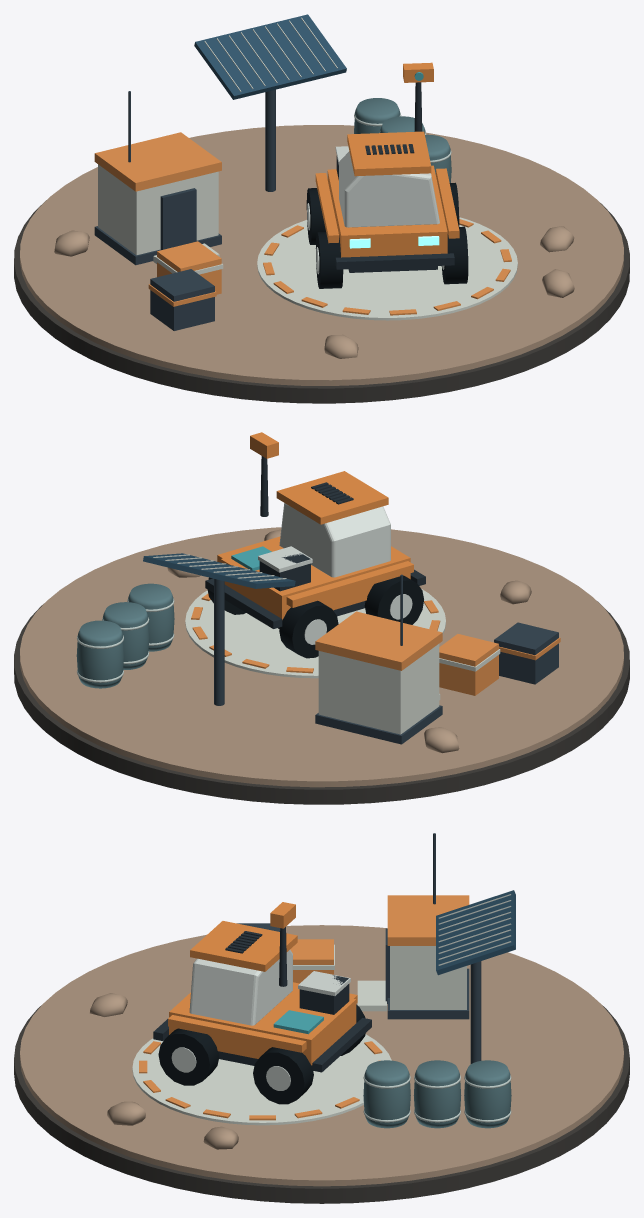
The model's file is outpost.glb.
3 views of the same model, one above another, from view 1: azimuth 30°, elevation 25°; view 2: azimuth 150°, elevation 25°; view 3: azimuth 270°, elevation 25° (orthographic).
Visible parts, largest first — view 1: main/terrain, main/base, main/servicePad, main/solarPanel, main/station, main/scout/cab, main/stationTop, main/scout/chassis, main/scout/canopy, main/crate2, main/stationDoor, main/crate1 (+16 smaller); view 2: main/terrain, main/base, main/station, main/scout/cab, main/servicePad, main/stationTop, main/scout/canopy, main/scout/chassis, main/crate2, main/crate1, main/barrels/2/body, main/solarPanel (+13 smaller); view 3: main/terrain, main/base, main/servicePad, main/scout/cab, main/solarPanel, main/scout/chassis, main/station, main/stationTop, main/scout/canopy, main/barrels/0/body, main/barrels/2/body, main/barrels/1/body (+15 smaller).
Part boxes in pixels (box(x1,y1,x2,y2)): main/terrain: box(20, 125, 623, 385); main/base: box(14, 200, 629, 403); main/servicePad: box(257, 217, 517, 320); main/solarPanel: box(194, 14, 346, 99); main/station: box(98, 164, 218, 255); main/scout/cab: box(339, 151, 439, 227); main/stationTop: box(94, 132, 221, 191); main/scout/chassis: box(327, 165, 447, 257); main/scout/canopy: box(347, 131, 431, 176); main/crate2: box(150, 269, 214, 330); main/stationDoor: box(160, 188, 196, 249); main/crate1: box(157, 241, 221, 294); main/terrain: box(20, 527, 623, 787); main/base: box(14, 601, 629, 804); main/station: box(318, 644, 439, 734); main/scout/cab: box(279, 503, 390, 577); main/servicePad: box(185, 589, 445, 678); main/stationTop: box(315, 611, 442, 670); main/scout/canopy: box(276, 471, 388, 524); main/scout/chassis: box(220, 541, 410, 619); main/crate2: box(494, 622, 558, 684); main/crate1: box(439, 634, 498, 695); main/barrels/2/body: box(76, 620, 123, 688); main/solarPanel: box(143, 553, 295, 588); main/terrain: box(20, 925, 623, 1186); main/base: box(14, 1005, 629, 1203); main/servicePad: box(132, 1034, 391, 1125); main/scout/cab: box(189, 950, 292, 1025); main/solarPanel: box(436, 890, 515, 975); main/scout/chassis: box(169, 986, 356, 1065); main/station: box(390, 946, 466, 1009); main/stationTop: box(387, 895, 469, 945); main/scout/canopy: box(190, 921, 297, 971); main/barrels/0/body: box(363, 1060, 410, 1128); main/barrels/2/body: box(464, 1060, 511, 1128); main/barrels/1/body: box(413, 1060, 461, 1128).
Bounding box in the file's own units: 10.4 × 3.77 × 10.4.
